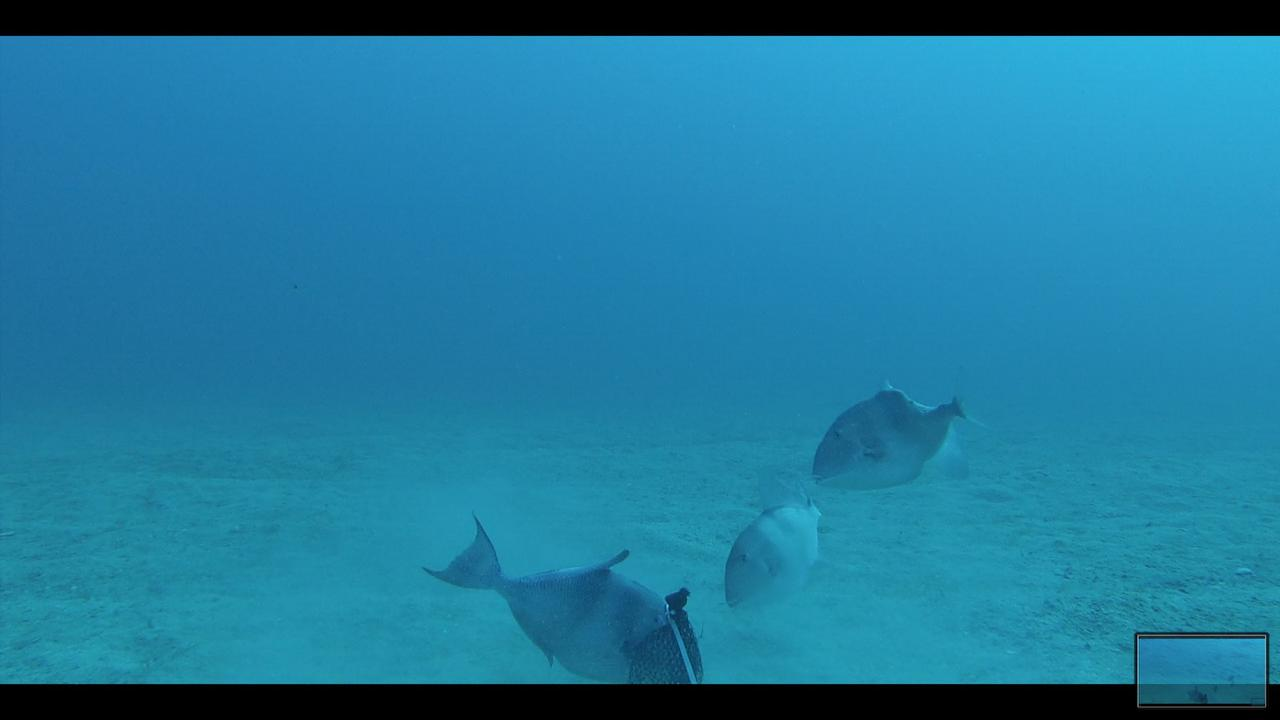balistes: (415, 502, 675, 682), (807, 364, 993, 492), (721, 466, 837, 610)
